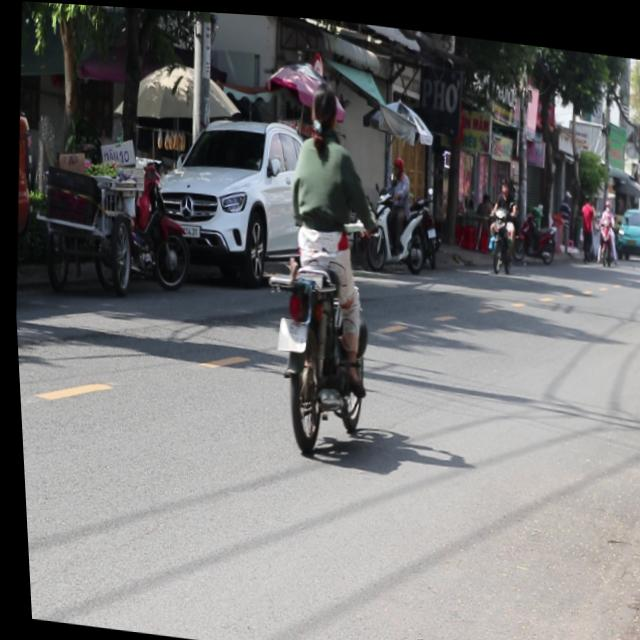licenseplate: (253, 68, 392, 458)
motorcyclist: (306, 76, 342, 139)
nohelmet: (273, 315, 305, 349)
